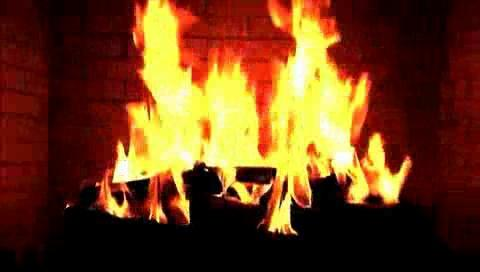fire: (81, 0, 432, 230)
